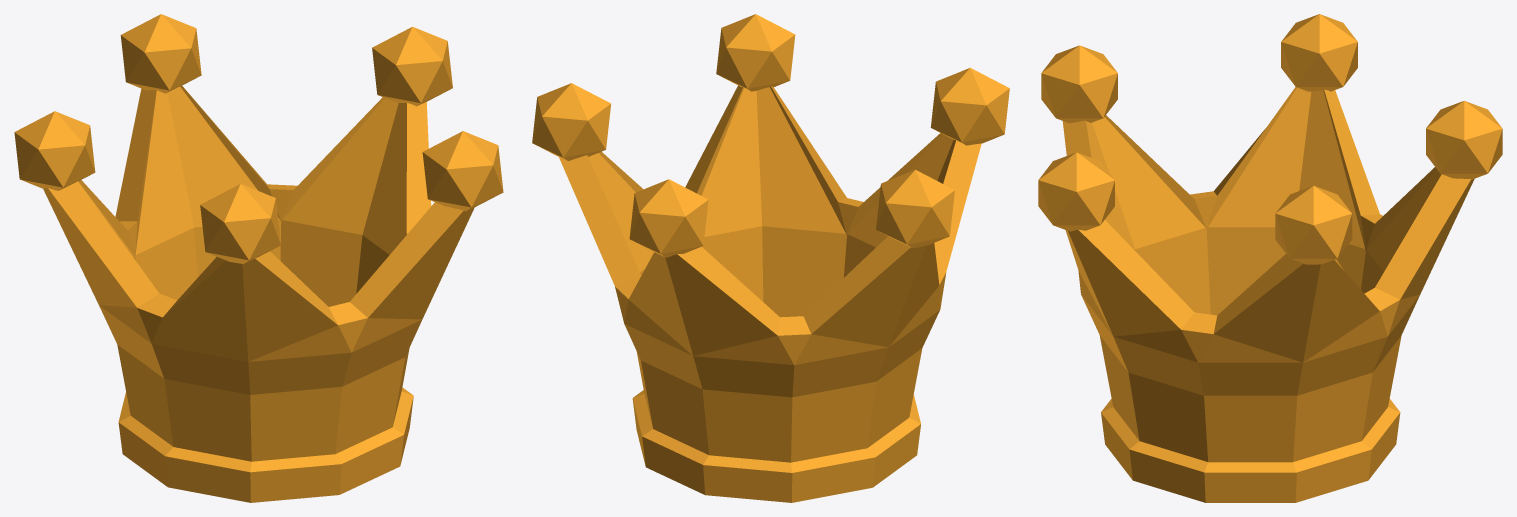
Rendered from SM_Cat_Crown_A.fbx.
3 views of the same model, side by side, from view 1: azimuth 30°, elevation 25°; view 2: azimuth 150°, elevation 25°; view 3: azimuth 270°, elevation 25° (orthographic). The views are drawn at different scales.
Parts seen in each view (by area): view 1: SM_Cat_Crown_A; view 2: SM_Cat_Crown_A; view 3: SM_Cat_Crown_A.
Part boxes in pixels (x1,y1,x2,y2): SM_Cat_Crown_A: (14, 14, 503, 502); SM_Cat_Crown_A: (532, 14, 1009, 502); SM_Cat_Crown_A: (1038, 14, 1502, 502).
Bounding box in the file's own units: 0.0562 × 0.0439 × 0.0536.
